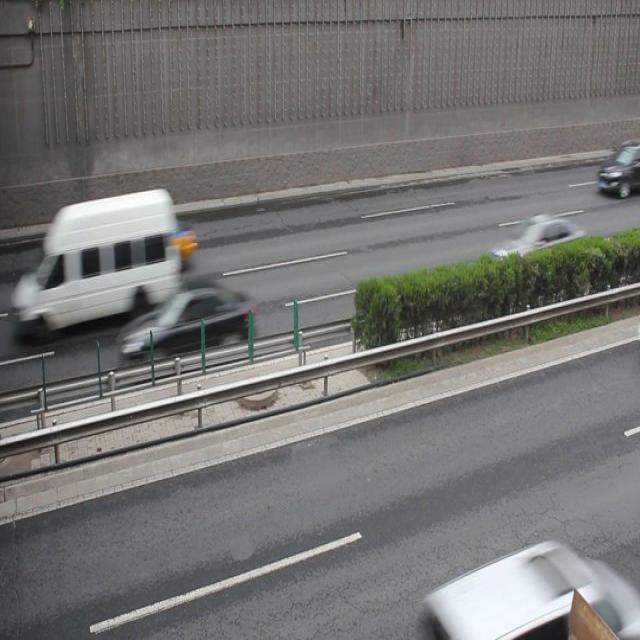car: (414, 539, 640, 639), (124, 283, 258, 363), (487, 214, 586, 272), (104, 205, 196, 262), (598, 139, 640, 196)
truck: (26, 192, 175, 332)
